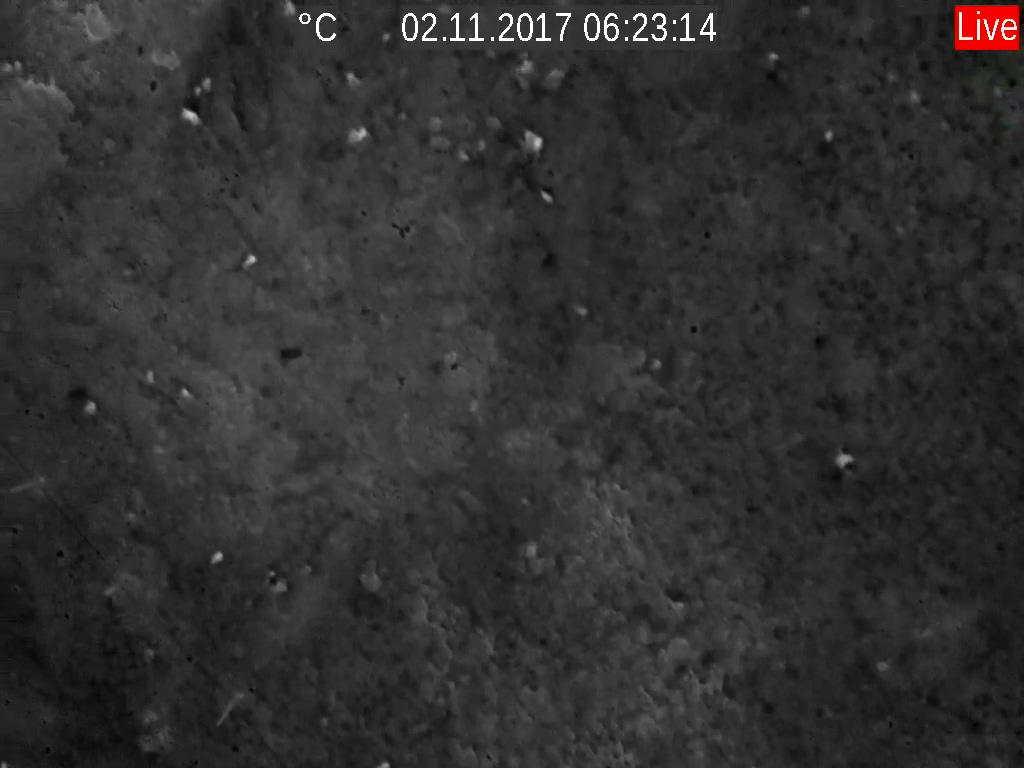warren: (210, 686, 249, 731), (831, 437, 860, 477), (518, 124, 549, 158), (568, 294, 595, 324), (236, 248, 264, 276), (177, 104, 207, 128), (206, 543, 229, 572), (345, 120, 371, 145), (177, 380, 196, 406), (536, 188, 557, 208)
